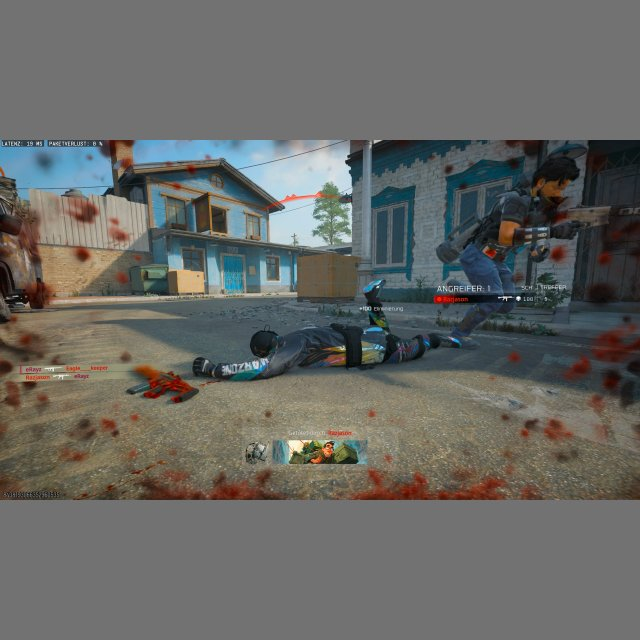head: (532, 153, 580, 202)
player: (434, 149, 583, 338)
